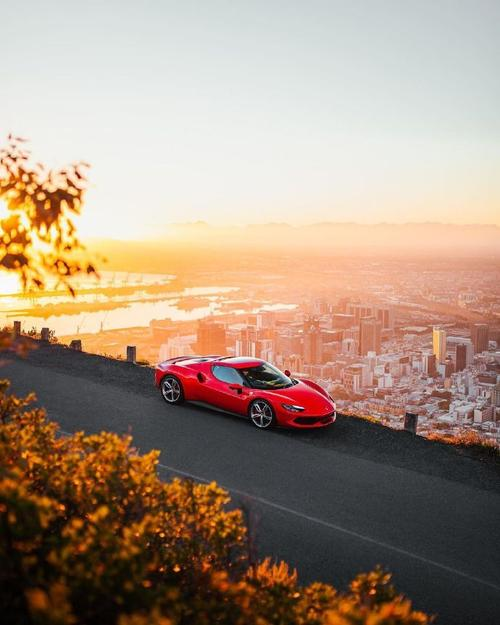汽车: (151, 352, 341, 439)
